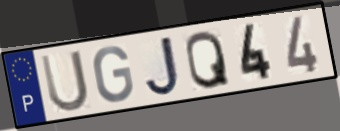4: (285, 13, 321, 75), (239, 21, 274, 82)
G: (92, 44, 137, 104)
J: (143, 34, 183, 100)
Q: (184, 28, 233, 91)
U: (37, 48, 91, 115)
